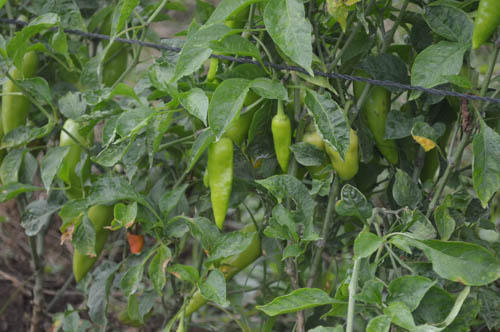ChiliPepper: (354, 71, 397, 156), (3, 51, 37, 143), (72, 204, 111, 282), (61, 118, 97, 190), (206, 141, 232, 227), (297, 133, 333, 176), (329, 133, 359, 178), (274, 118, 296, 168)
